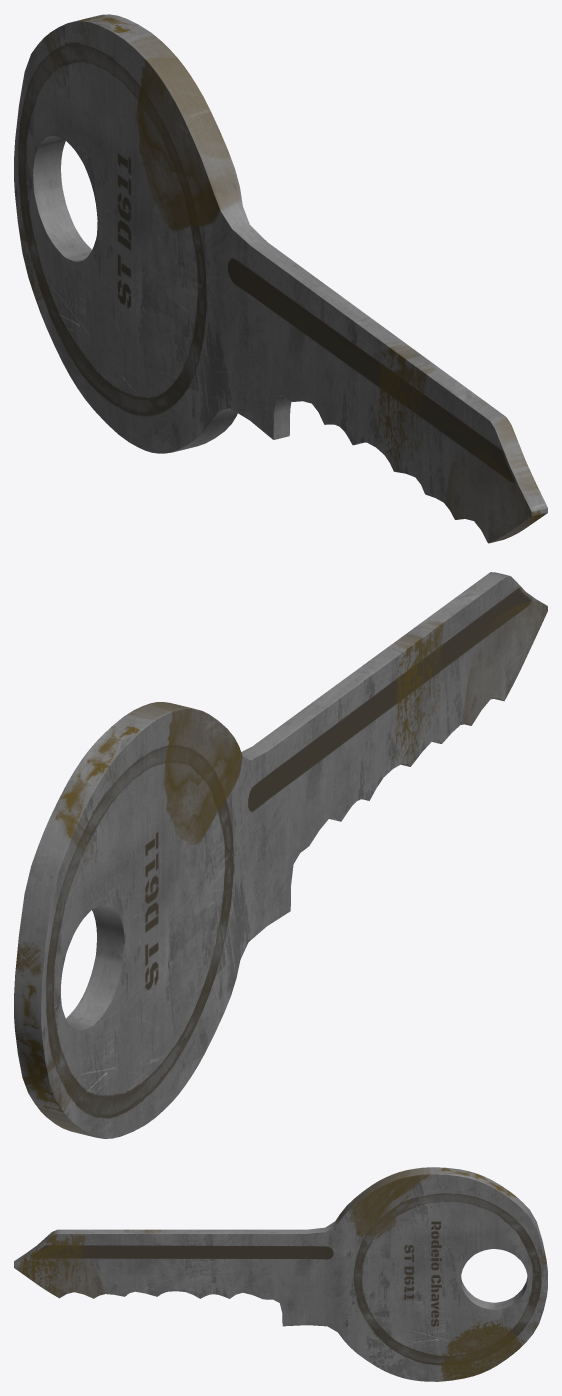
File: MainKey_MESH.fbx
3 renders of one model, top to bottom at view 1: azimuth 30°, elevation 25°; view 2: azimuth 150°, elevation 25°; view 3: azimuth 270°, elevation 25°, orthographic. The views are drawn at different scales.
Visible parts, largest first — view 1: Main_Key; view 2: Main_Key; view 3: Main_Key.
Part boxes in pixels (box(x1,y1,x2,y2)): Main_Key: box(14, 14, 547, 543); Main_Key: box(14, 572, 547, 1138); Main_Key: box(14, 1167, 547, 1381).
Bounding box in the file's own units: 0.0172 × 0.2355 × 0.5482.
